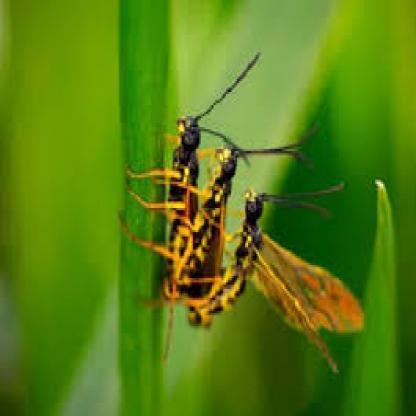sawfly: (122, 52, 258, 309), (182, 176, 362, 362), (167, 129, 299, 340)
